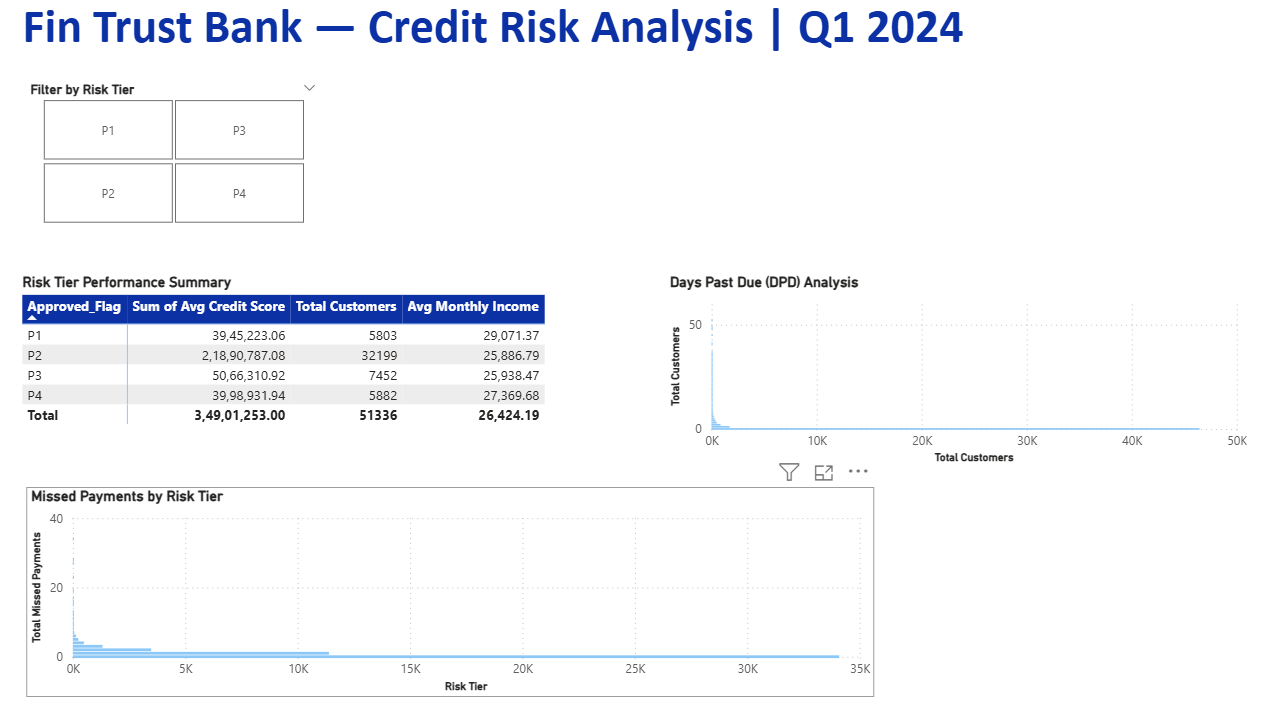

This screenshot's page, from the dashboard's own definition file:
{"tool":"powerbi","page":{"name":"Credit Risk","canvas":[1280,720],"ordinal":1},"visuals":[{"type":"clusteredBarChart","title":"  Days Past Due (DPD) Analysis","fields":{"Category":["fintrust_db external_cibil_data.num_times_60p_dpd"],"Y":["fintrust_db external_cibil_data.Total Customers"]},"box":[665.2,281.3,587,195.7],"z":0},{"type":"pivotTable","title":"Risk Tier Performance Summary","fields":{"Rows":["fintrust_db external_cibil_data.Approved_Flag"],"Values":["Sum(fintrust_db external_cibil_data.Avg Credit Score)","fintrust_db external_cibil_data.Total Customers","fintrust_db external_cibil_data.Avg Monthly Income"]},"box":[17.1,281.3,544.2,195.7],"z":1000},{"type":"clusteredBarChart","title":" Missed Payments by Risk Tier","fields":{"Y":["CountNonNull(fintrust_db external_cibil_data.Approved_Flag)"],"Category":["fintrust_db internal_bank_data.Tot_Missed_Pmnt"]},"box":[25.7,495.2,848.6,210.3],"z":2000},{"type":"slicer","fields":{"Values":["fintrust_db external_cibil_data.Approved_Flag"]},"box":[17.1,85.6,310.6,152.9],"z":3000},{"type":"textbox","box":[17.1,0,1059,72.1],"z":4000}]}

Visuals, with their boxes in screenshot pixels (x1, y1, x2, y2), scaled from the page's 1280x720 canvas onto the 1278x711 screenshot:
"  Days Past Due (DPD) Analysis" clusteredBarChart: detection(664, 278, 1250, 471)
"Risk Tier Performance Summary" pivotTable: detection(17, 278, 560, 471)
" Missed Payments by Risk Tier" clusteredBarChart: detection(26, 489, 873, 697)
slicer - fintrust_db external_cibil_data.Approved_Flag: detection(17, 85, 327, 236)
textbox: detection(17, 0, 1074, 71)
